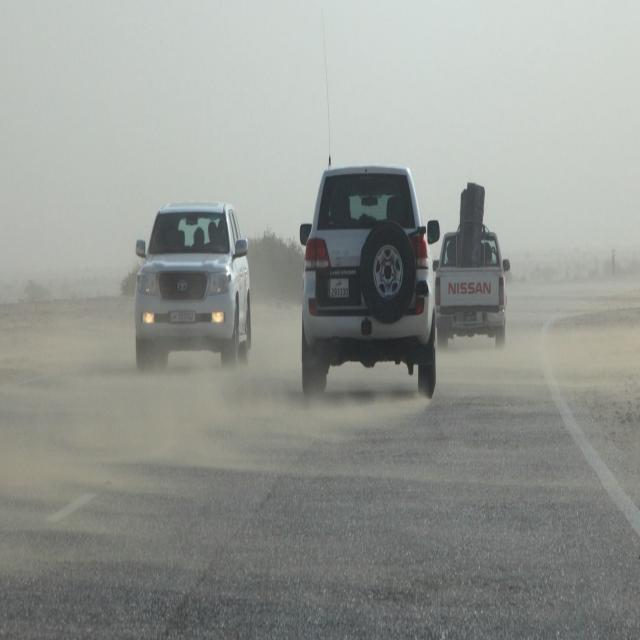bus: (437, 178, 509, 354)
car: (301, 166, 438, 398), (133, 201, 253, 368)
